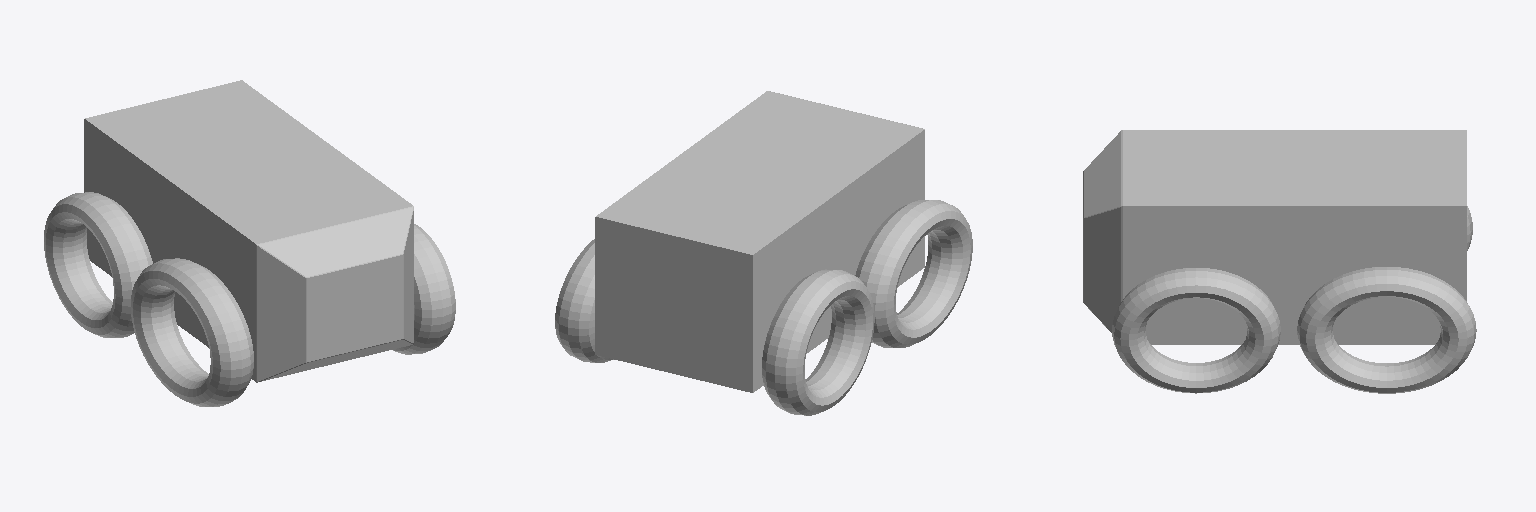
The model's file is car3.obj.
The picture shows the model from 3 angles: view 1: azimuth 30°, elevation 25°; view 2: azimuth 150°, elevation 25°; view 3: azimuth 270°, elevation 25°; orthographic projection.
Visible parts, largest first — view 1: Cube; view 2: Cube; view 3: Cube.
Boxes of the visible parts, x1=… form: Cube: x1=44, y1=80, x2=455, y2=406; Cube: x1=555, y1=91, x2=972, y2=415; Cube: x1=1083, y1=130, x2=1476, y2=393.
Bounding box in the file's own units: 1.17 × 0.7964 × 1.61.